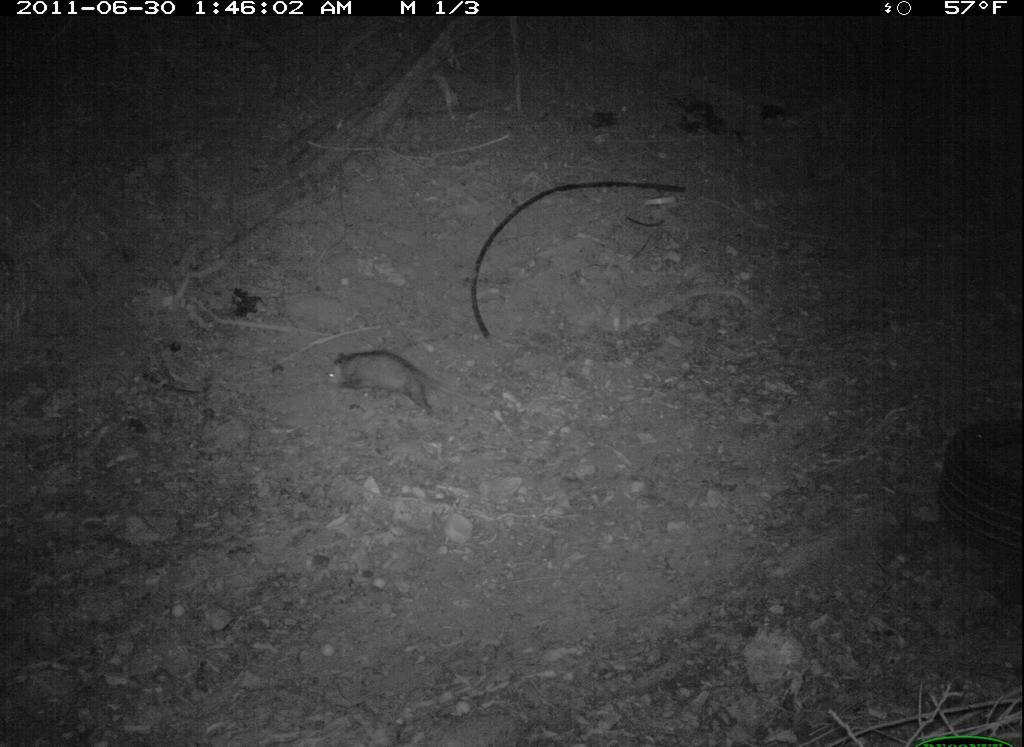opossum: (317, 346, 493, 425)
